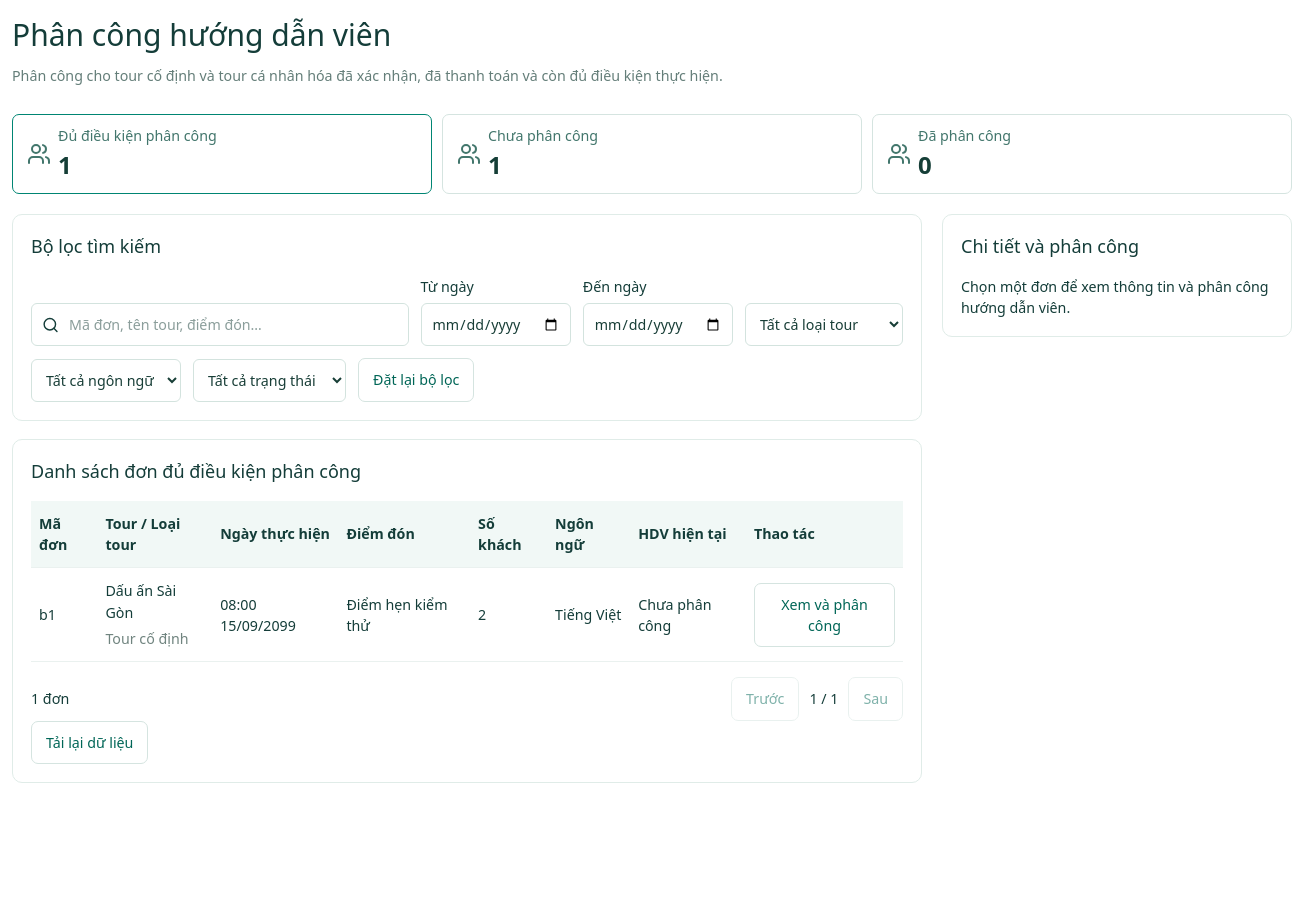
Scenario: supports search empty state and reset without a rules panel
expect the text "Dấu ấn Sài Gòn" is shown: met, box [105,581,176,622]
Type "không tồn tại" into the field named "Tìm đơn".
click(233, 325); type("không tồn tại")  # box [59,304,408,345]
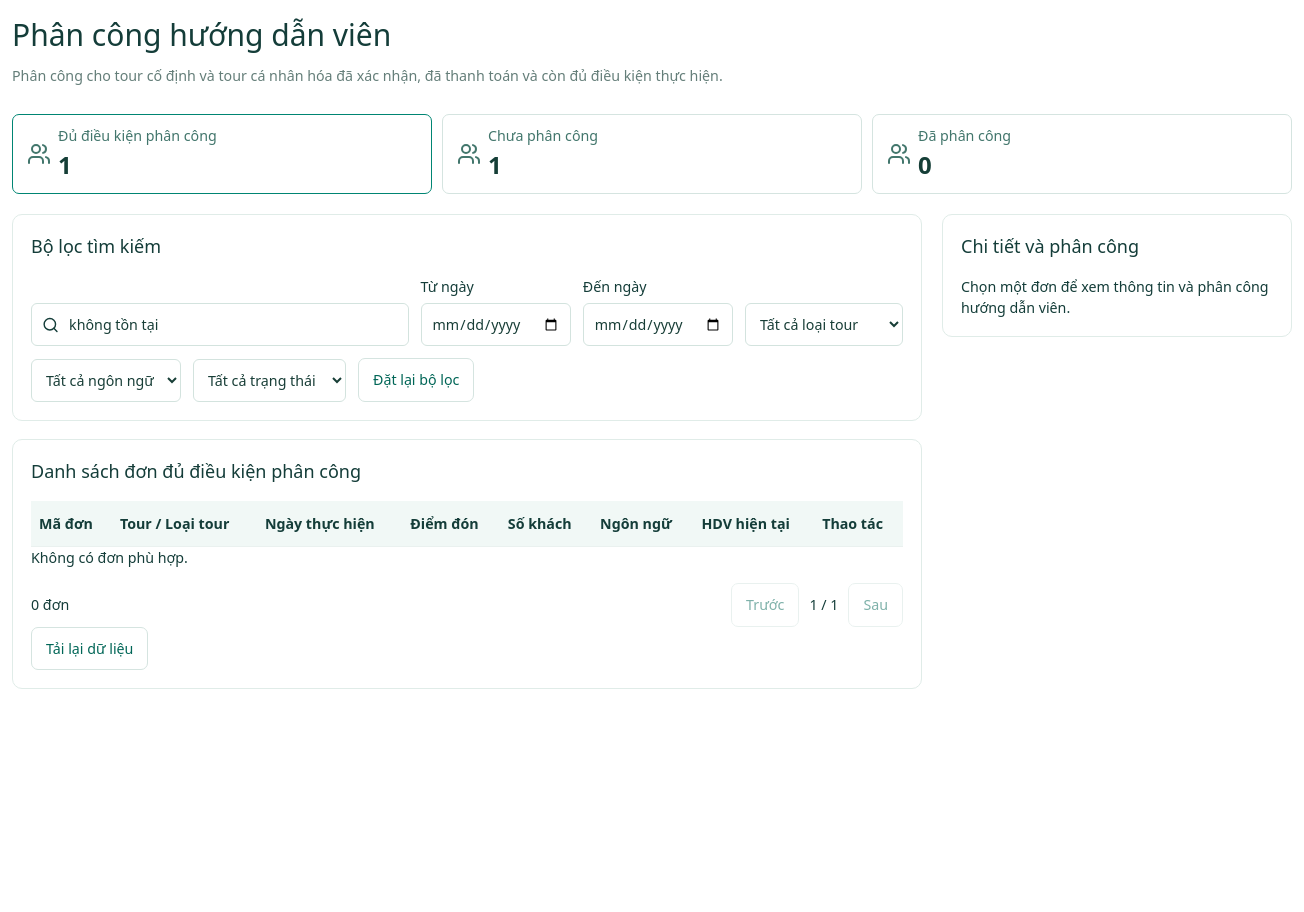
expect the text "Không có đơn phù hợp." is shown: met, box [31,548,188,567]
Click the button "Đặt lại bộ lọc".
click(416, 380)  # box [358,358,474,402]
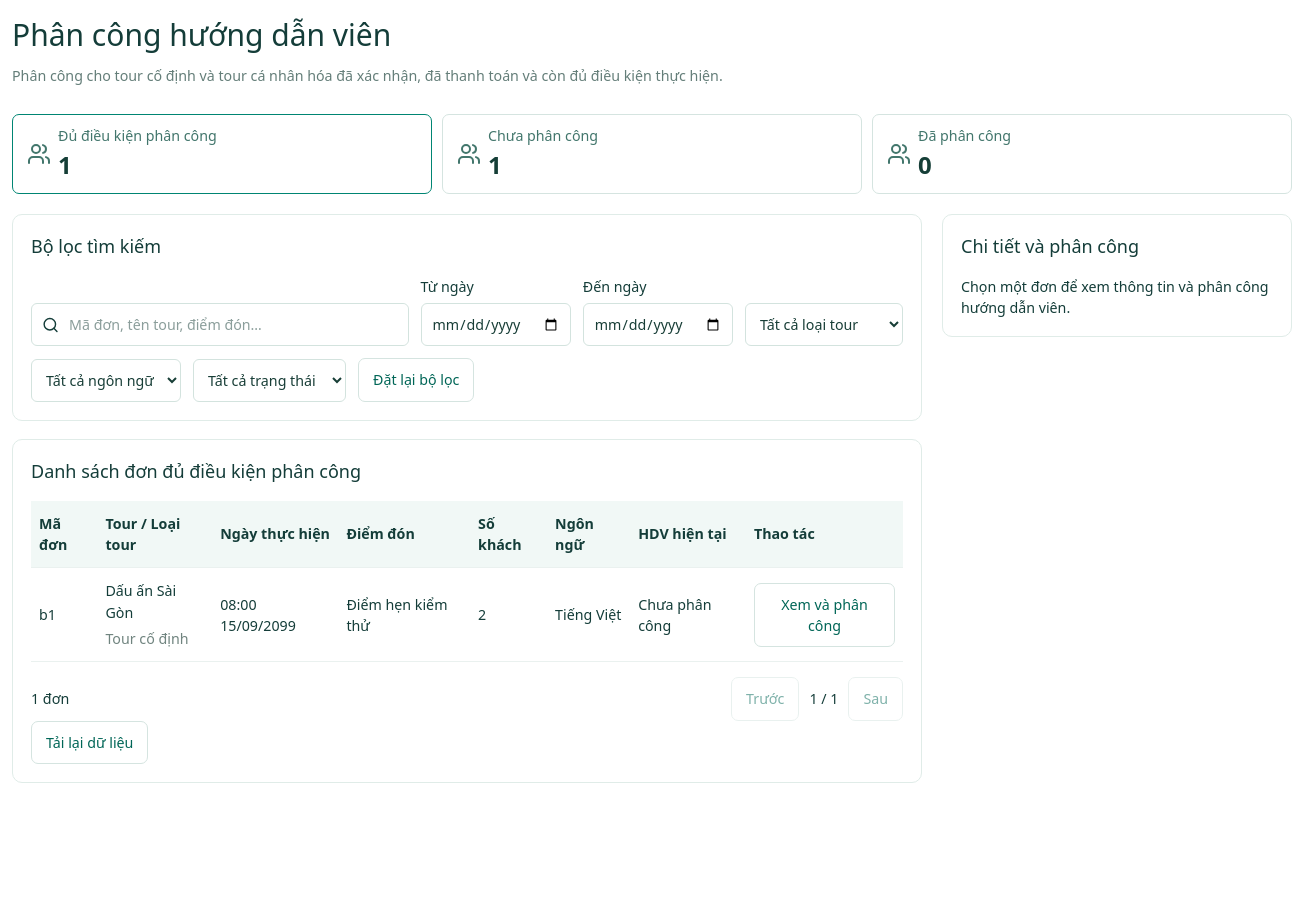
expect the text "Dấu ấn Sài Gòn" is shown: met, box [105,581,176,622]
